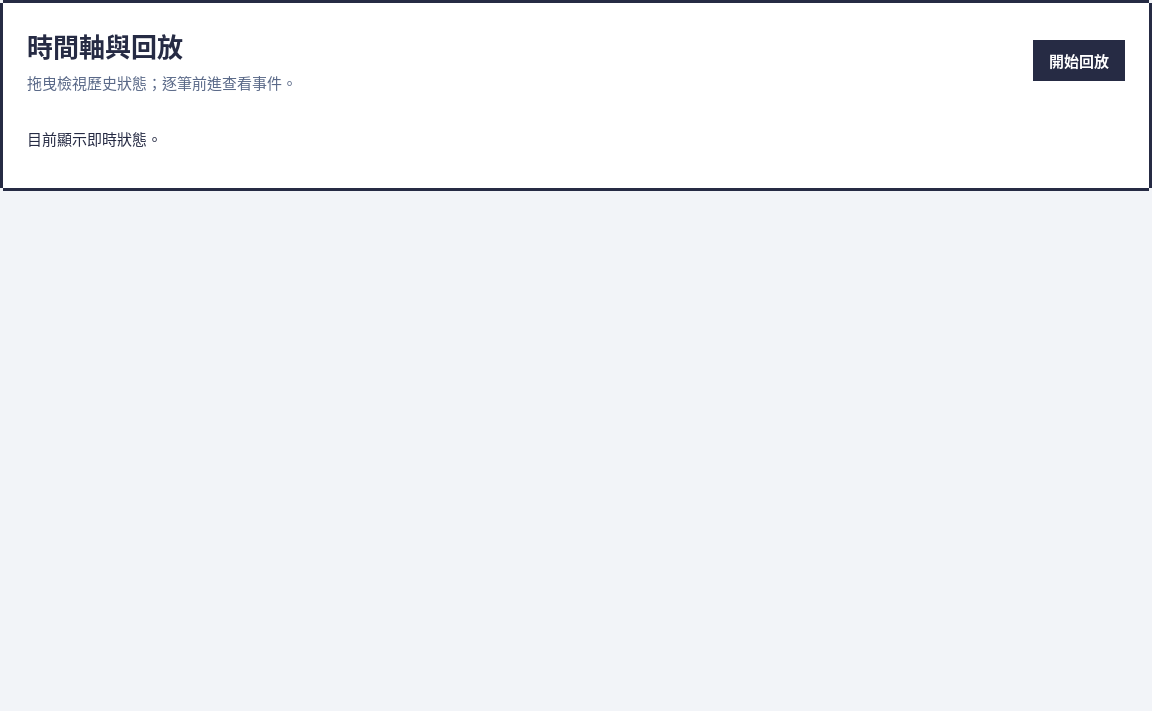
it: empty history remains usable and disables navigation
The width and height of the screenshot is (1152, 711).
Click the button with test id "timeline-open" at (1079, 60), box [1033,40,1125,80]
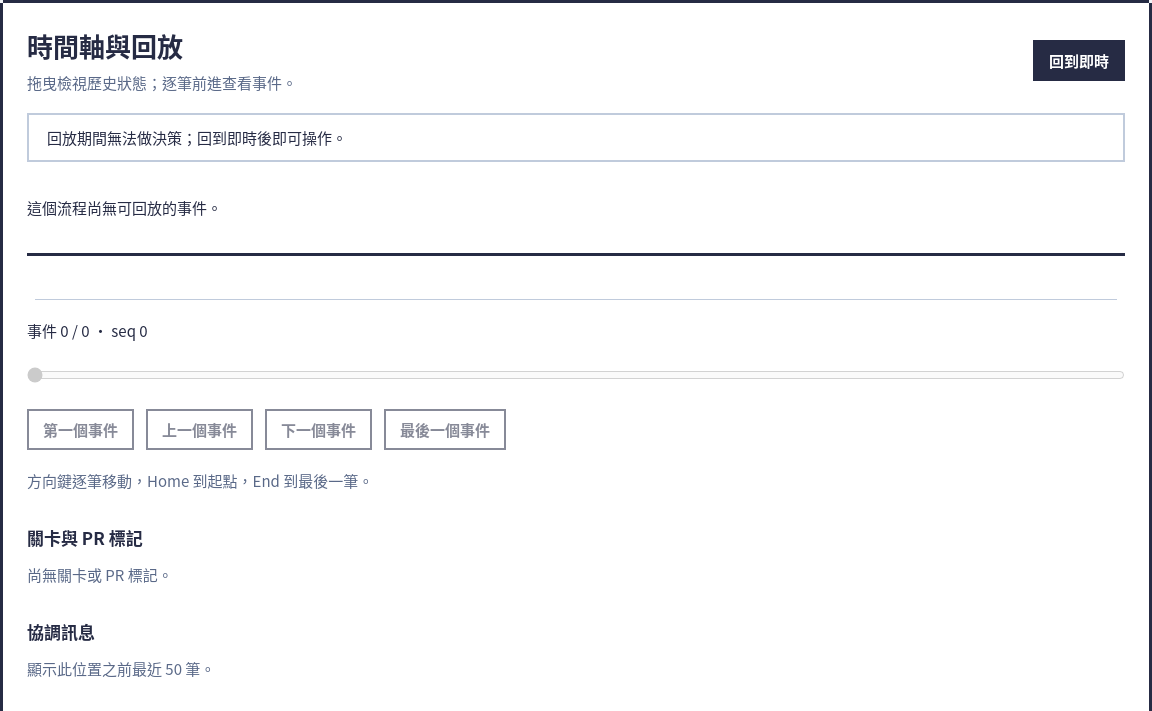
Expected: the text "這個流程尚無可回放的事件。" is shown, [27,197,222,218]
Expected: the button with test id "timeline-next" is disabled, [265,409,372,450]
Click the button with test id "timeline-live" at (1079, 60), box [1033,40,1125,80]
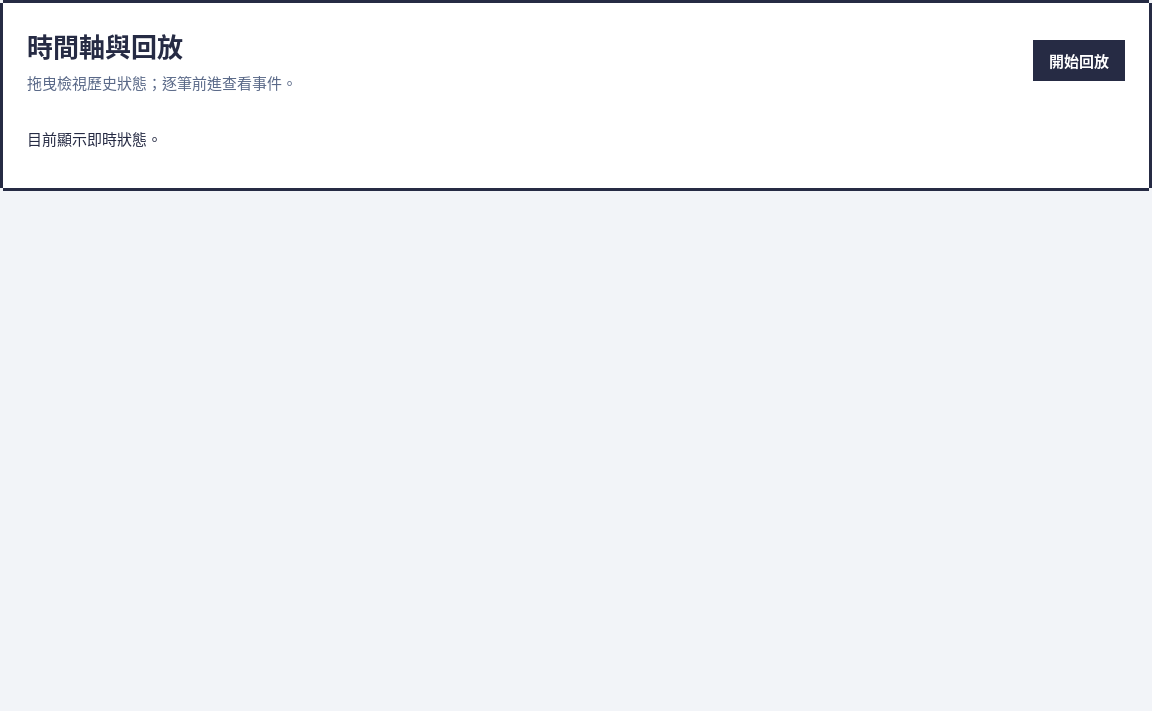
Expected: the button with test id "timeline-open" is shown, [1033,40,1125,80]
